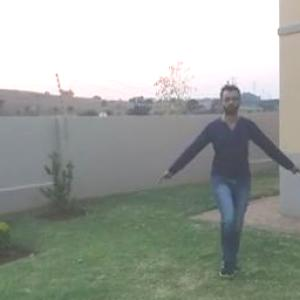land: (163, 93, 282, 245)
